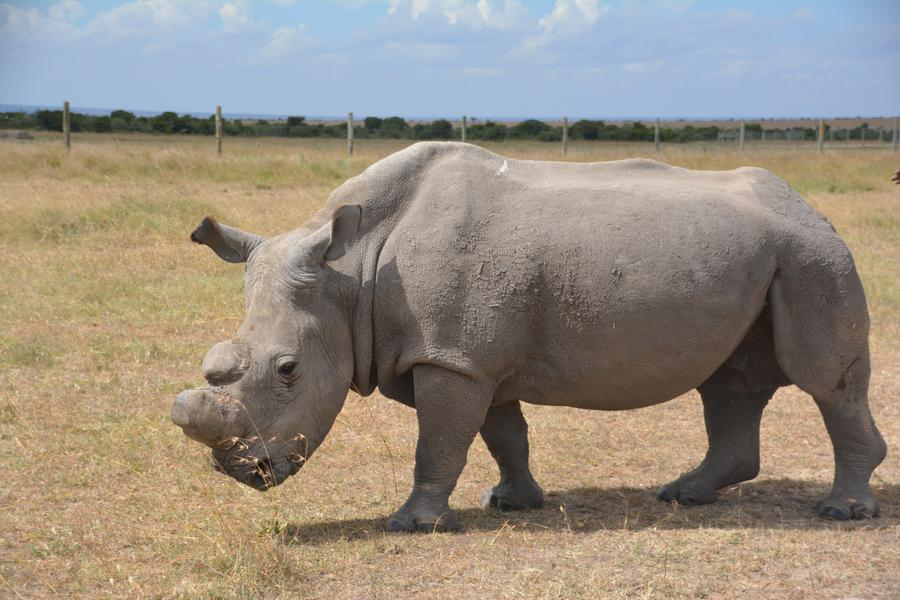rhino: (186, 152, 874, 512)
